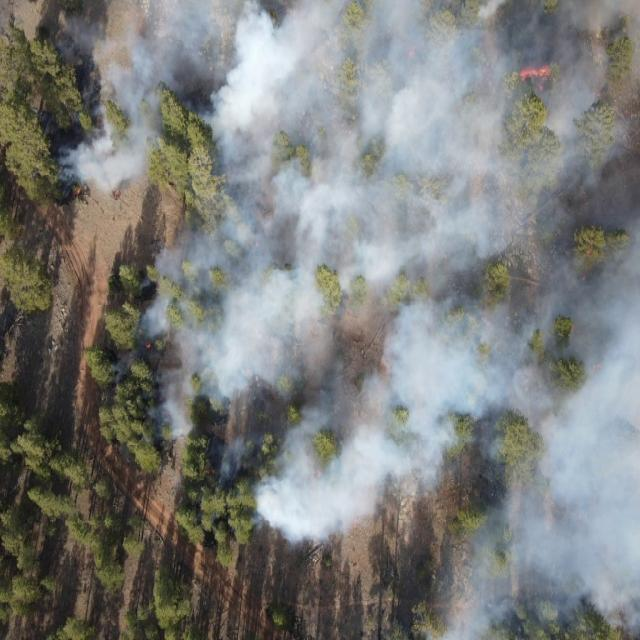fire: (518, 66, 554, 82), (590, 360, 604, 375), (409, 44, 418, 61), (584, 246, 596, 258), (111, 188, 122, 200), (203, 467, 216, 477), (143, 341, 153, 352), (580, 274, 590, 284), (251, 240, 261, 250), (314, 468, 324, 477), (74, 186, 82, 197), (538, 81, 546, 92)
smoke: (479, 0, 640, 640), (51, 0, 479, 202), (182, 201, 478, 488), (138, 247, 183, 447), (248, 490, 388, 544), (432, 521, 479, 640), (110, 345, 138, 377)
